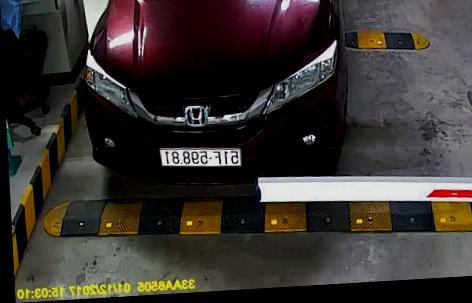License_Plate: (155, 142, 244, 173)
